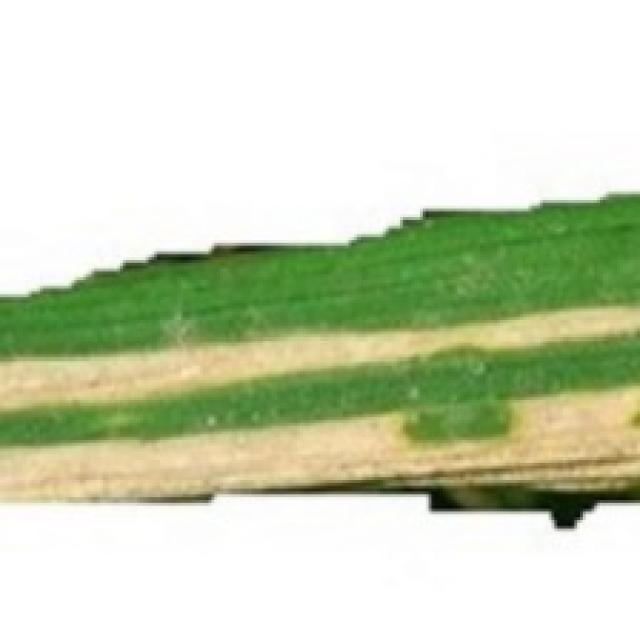Rice___Bacterial_Leaf_Blight: (0, 187, 637, 543)
